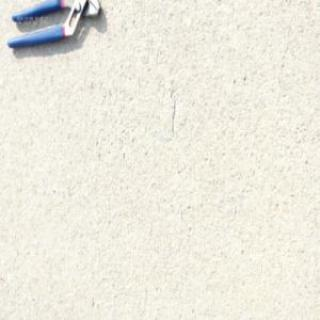Pliertrack_idkeyframe: (5, 0, 101, 51)
